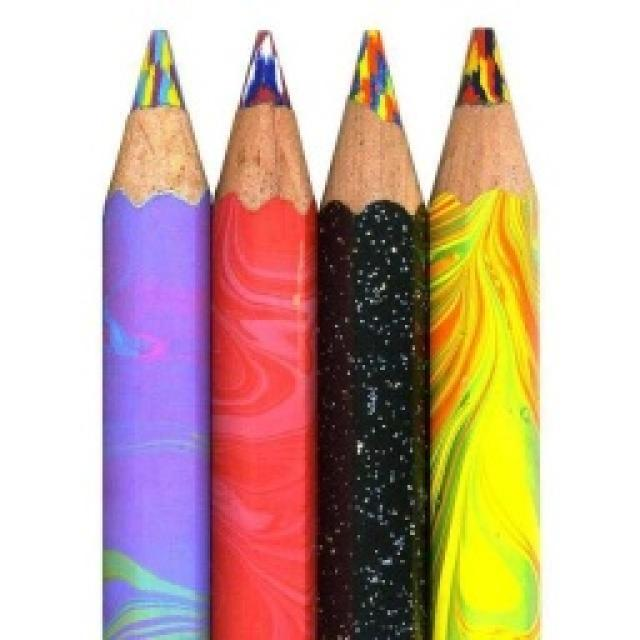pencil: (95, 18, 550, 638)
